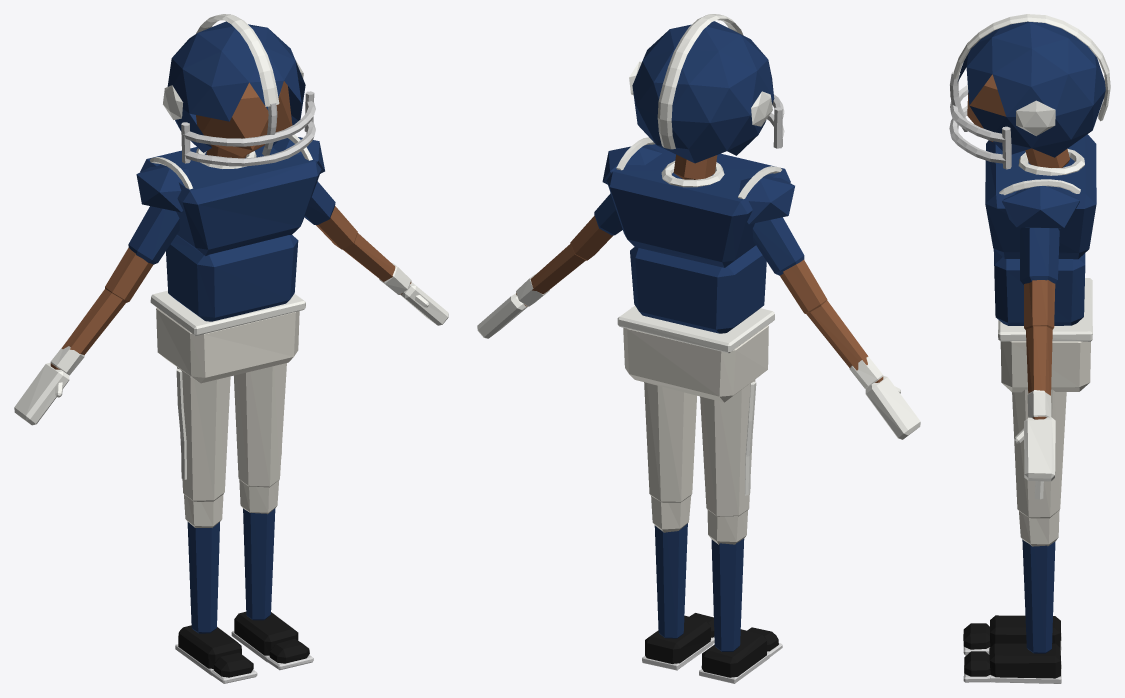
Rendered from lowpoly.glb.
3 views of the same model, side by side, from view 1: azimuth 30°, elevation 25°; view 2: azimuth 150°, elevation 25°; view 3: azimuth 270°, elevation 25° (orthographic). The views are drawn at different scales.
Parts seen in each view (by area): view 1: head, thorax, pelvis, lumbar, thighR, thighL, shankL, shankR, upperArmR, forearmR, footL, footR (+6 smaller); view 2: head, thorax, pelvis, lumbar, thighR, thighL, shankL, shankR, upperArmR, forearmR, footL, footR (+5 smaller); view 3: head, thorax, pelvis, shankL, lumbar, upperArmL, thighL, footL, forearmL, handL, footR, toesL (+2 smaller).
Part boxes in pixels (x1,y1,x2,y2): head: (163,14,315,166); thorax: (136,134,324,255); pelvis: (150,290,305,383); lumbar: (166,235,298,321); thighR: (176,367,230,501); thighL: (234,363,286,487); shankL: (239,480,279,620); shankR: (184,494,223,633); upperArmR: (105,206,179,302); forearmR: (50,289,125,375); footL: (231,611,298,662); footR: (175,625,241,675); head: (629,14,784,163); thorax: (602,137,794,267); pelvis: (617,306,774,402); lumbar: (630,245,766,333); thighR: (700,379,756,516); thighL: (644,382,696,502); shankL: (651,495,691,638); shankR: (707,509,747,651); upperArmR: (752,217,827,313); forearmR: (806,300,883,388); footL: (642,615,713,670); footR: (699,629,769,683); head: (949,14,1110,169); thorax: (985,134,1096,259); pelvis: (998,278,1092,392); shankL: (1019,510,1059,653); lumbar: (993,249,1085,325); upperArmL: (1020,227,1059,329); thighL: (1012,389,1066,518); footL: (989,643,1061,683); forearmL: (1026,326,1052,419); handL: (1014,417,1055,481); footR: (990,615,1061,654); toesL: (963,651,990,682).
Bounding box in the file's own units: 1.45 × 2.07 × 0.4669.
